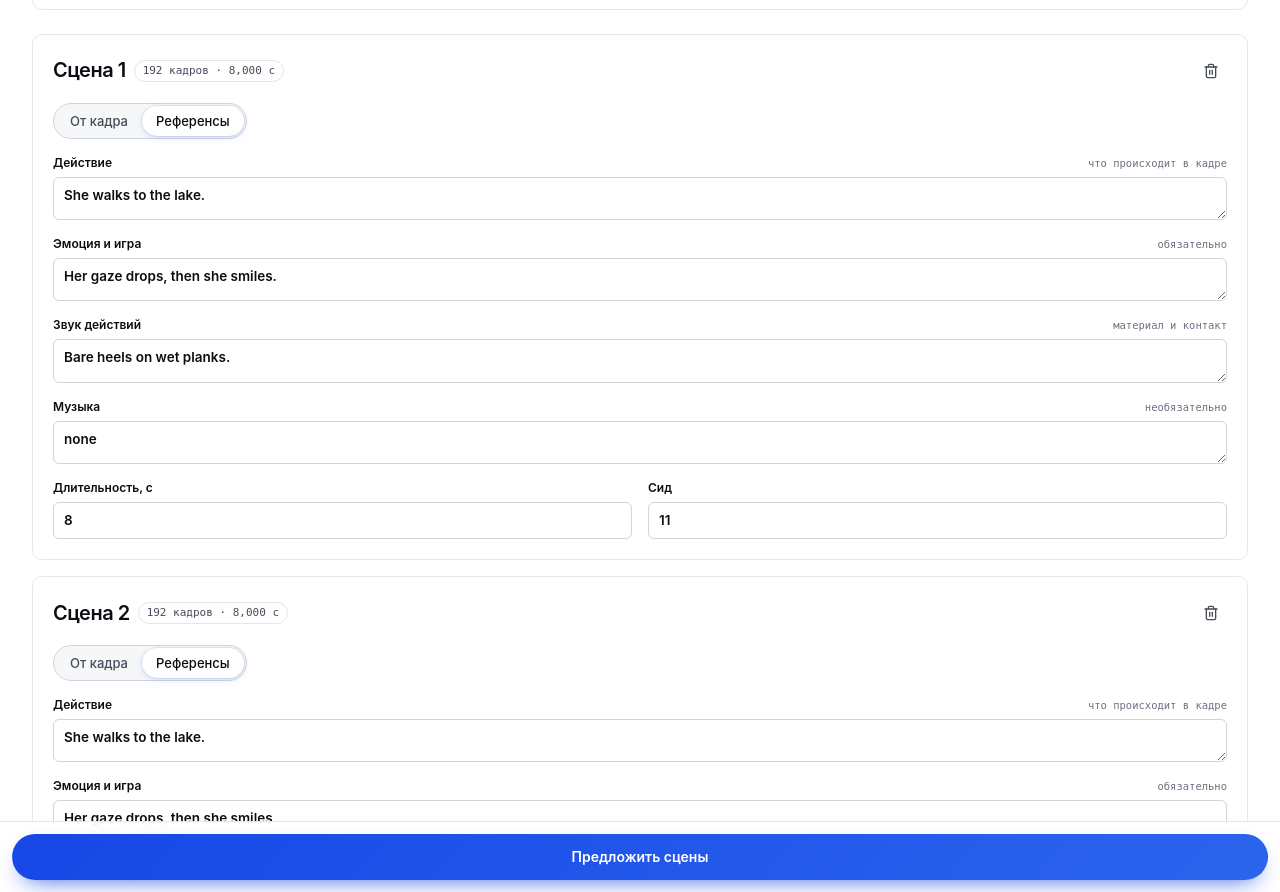
Test case: phone bar: the main action of the step in hand › between two edited scenes the bar saves the one that got input last (1 → 2 → 1)
(page scrolled)
In the text box labelled "Музыка необязательно": {"x": 640, "y": 442} left=53, top=420, right=1227, bottom=464, type "a"
(page scrolled)
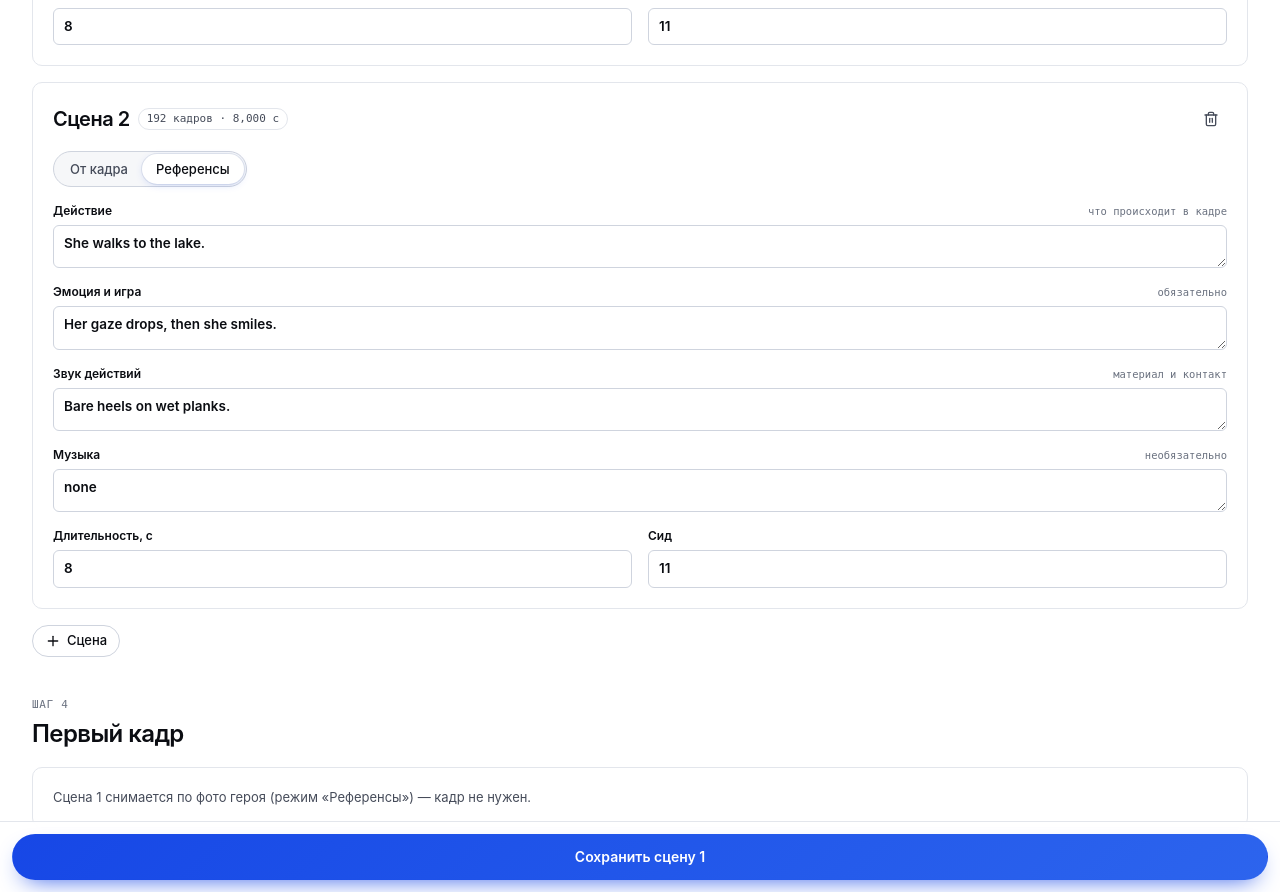
In the text box labelled "Музыка необязательно": {"x": 640, "y": 490} left=53, top=469, right=1227, bottom=512, type "b"
(page scrolled)
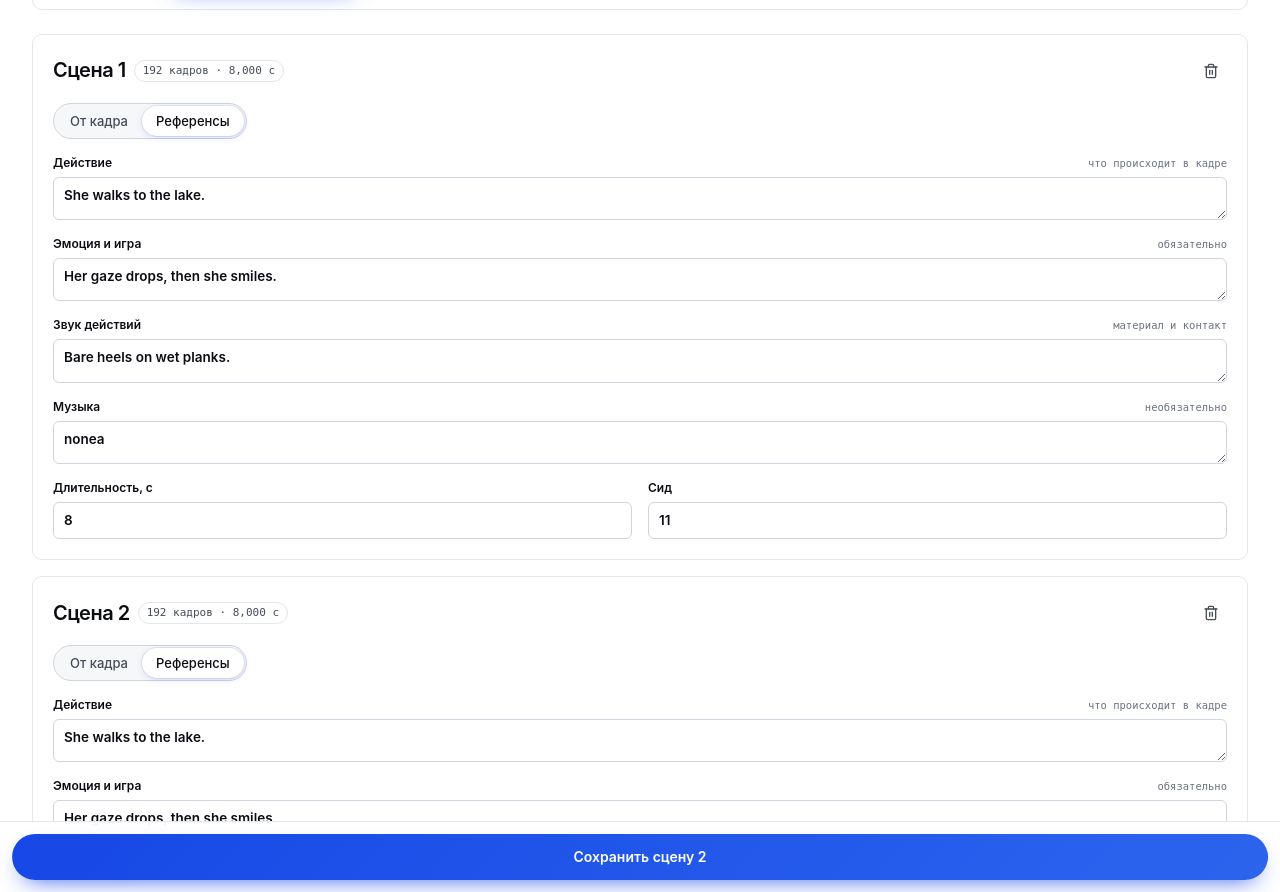
Expected: the button "Сохранить сцену 2" is shown, left=12, top=834, right=1268, bottom=880
In the text box labelled "Музыка необязательно": {"x": 640, "y": 442} left=53, top=420, right=1227, bottom=464, type "c"
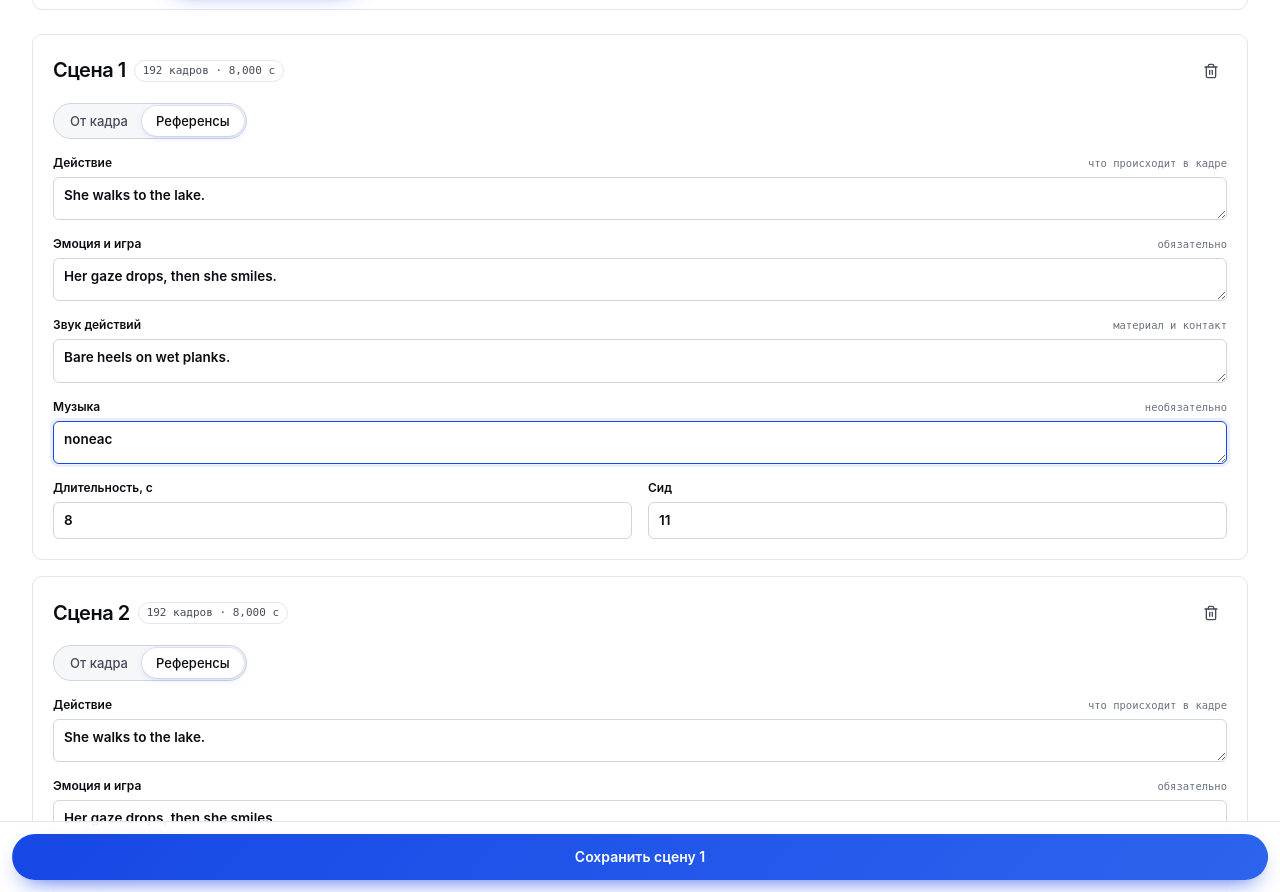
Expected: the button "Сохранить сцену 1" is shown, left=12, top=834, right=1268, bottom=880
